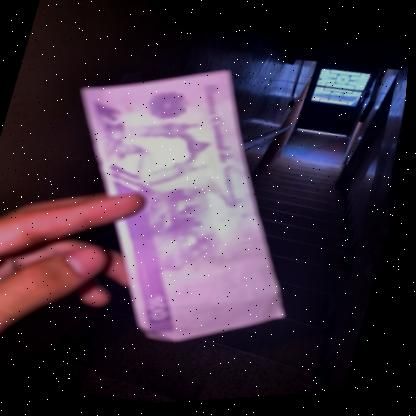one_hundred-back-vef: (14, 35, 358, 376)
